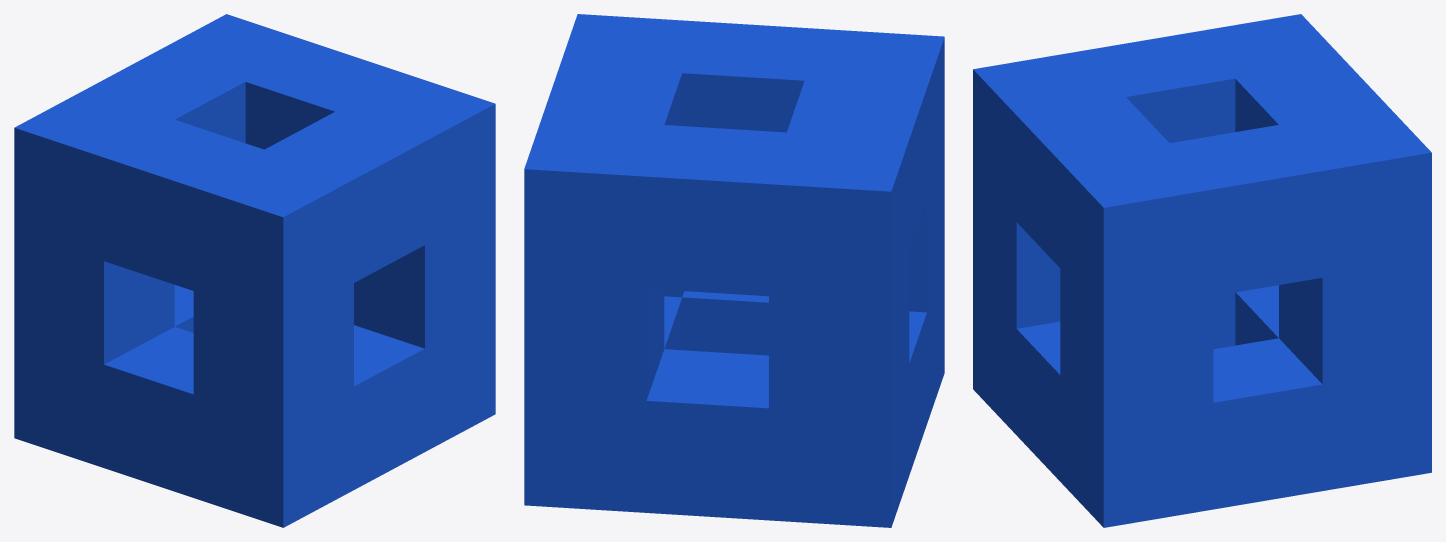
The model's file is YouTubeDynamics.glb.
3 renders of one model, left to right at view 1: azimuth 30°, elevation 25°; view 2: azimuth 150°, elevation 25°; view 3: azimuth 270°, elevation 25°, orthographic. The views are drawn at different scales.
Parts seen in each view (by area): view 1: Sponge; view 2: Sponge; view 3: Sponge.
Boxes of the visible parts, x1,y1,x2,y2 form: Sponge: (14, 14, 495, 527); Sponge: (524, 14, 944, 527); Sponge: (973, 14, 1431, 527).
Bounding box in the file's own units: 2.6 × 2 × 2.6.
